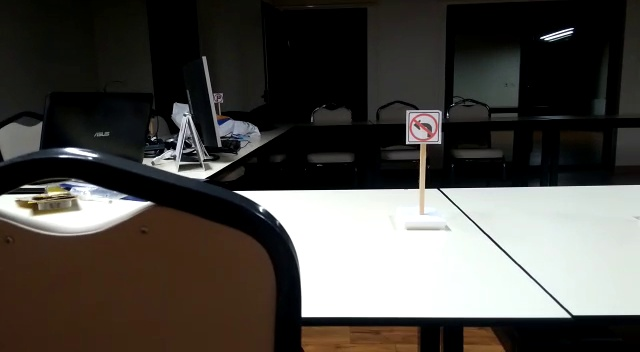sola_donulmez: (409, 108, 443, 142)
